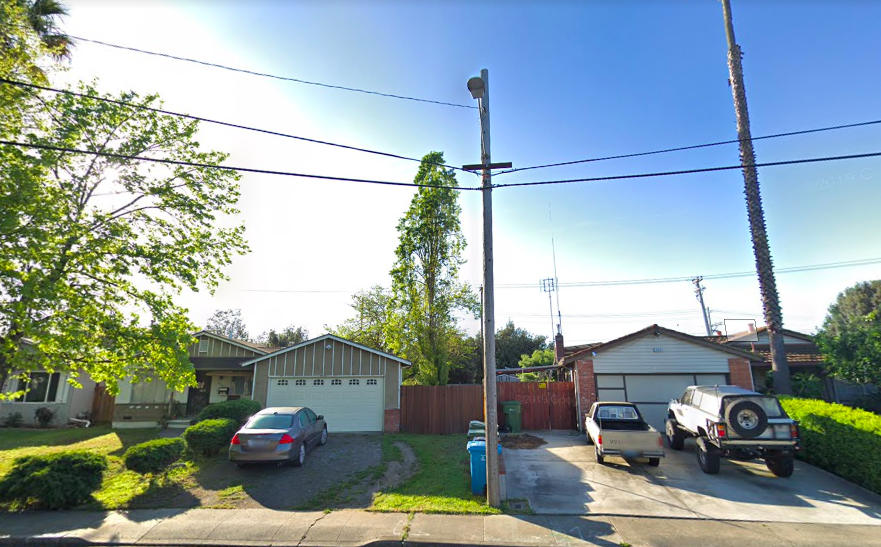utility_pole: (447, 58, 522, 200)
